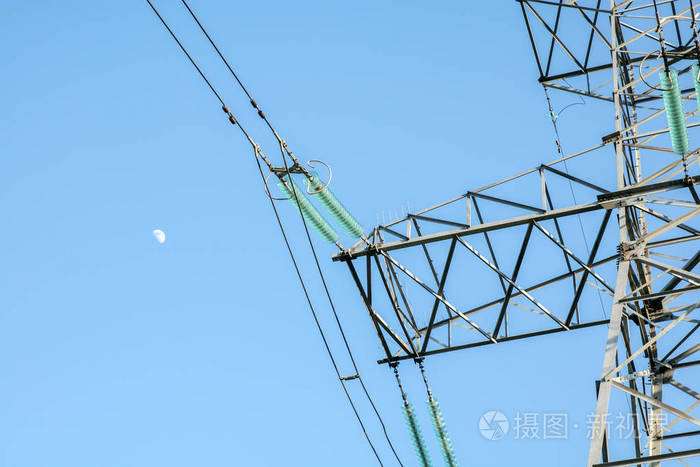insulator: (281, 171, 364, 244), (660, 63, 697, 155), (405, 397, 453, 467)
